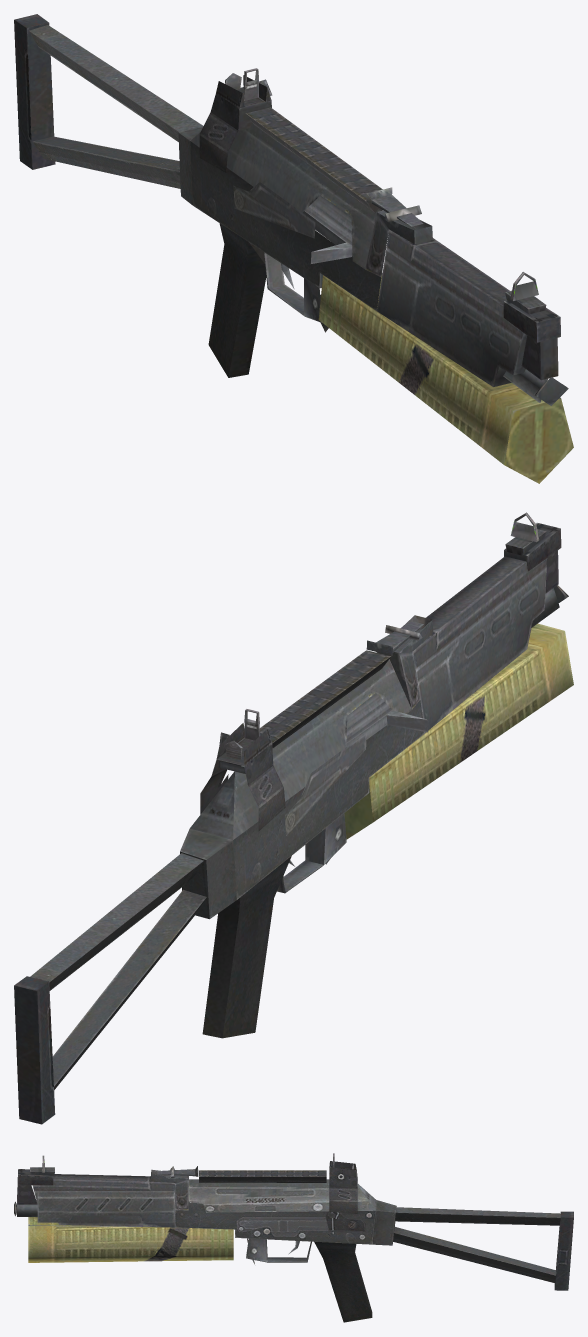
Rendered from SMG_cfq_qs_01_lod2_Body_LOD_(001041).glb.
3 renders of one model, top to bottom at view 1: azimuth 30°, elevation 25°; view 2: azimuth 150°, elevation 25°; view 3: azimuth 270°, elevation 25°, orthographic. The views are drawn at different scales.
Visible parts, largest first — view 1: cfq_qs_01_lod2; view 2: cfq_qs_01_lod2; view 3: cfq_qs_01_lod2.
Part boxes in pixels (x1=…): cfq_qs_01_lod2: x1=14, y1=14, x2=573, y2=483; cfq_qs_01_lod2: x1=14, y1=512, x2=573, y2=1124; cfq_qs_01_lod2: x1=14, y1=1153, x2=573, y2=1322.
Bounding box in the file's own units: 0.1045 × 0.3346 × 1.02.
1 material, 1 textured.
